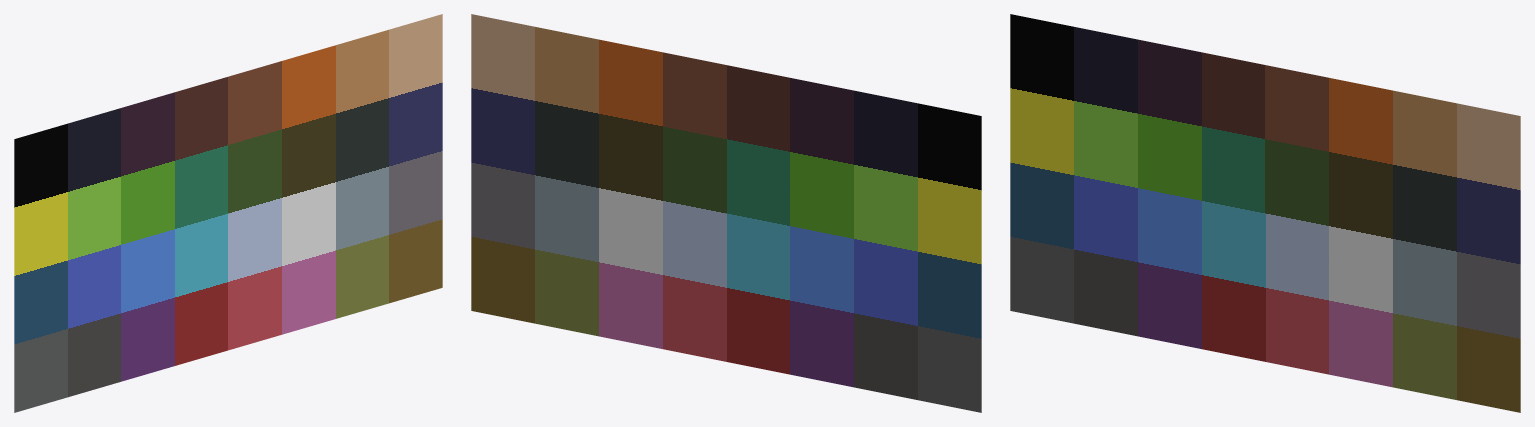
The model's file is Screen_Monitor.glb.
3 views of the same model, side by side, from view 1: azimuth 30°, elevation 25°; view 2: azimuth 150°, elevation 25°; view 3: azimuth 330°, elevation 25° (orthographic). The views are drawn at different scales.
Visible parts, largest first — view 1: Screen_Monitor; view 2: Screen_Monitor; view 3: Screen_Monitor.
Boxes of the visible parts, box(x1,y1,x2,y2) form: Screen_Monitor: box(14, 14, 442, 412); Screen_Monitor: box(471, 14, 981, 412); Screen_Monitor: box(1010, 14, 1520, 412).
Bounding box in the file's own units: 0.6932 × 0.4035 × 0.0567.
1 material, 1 textured.
